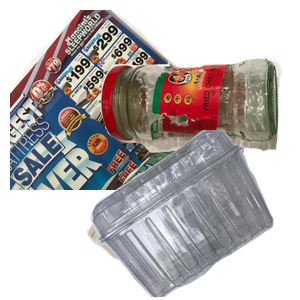glass: (98, 56, 300, 201)
paper: (10, 10, 240, 190)
plastic: (88, 130, 300, 300)
trash: (84, 133, 292, 300)
